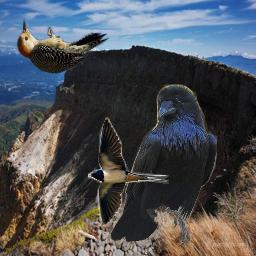Crow: (111, 84, 217, 246)
Swallow: (88, 117, 169, 227)
Woodpecker: (9, 16, 113, 75)
